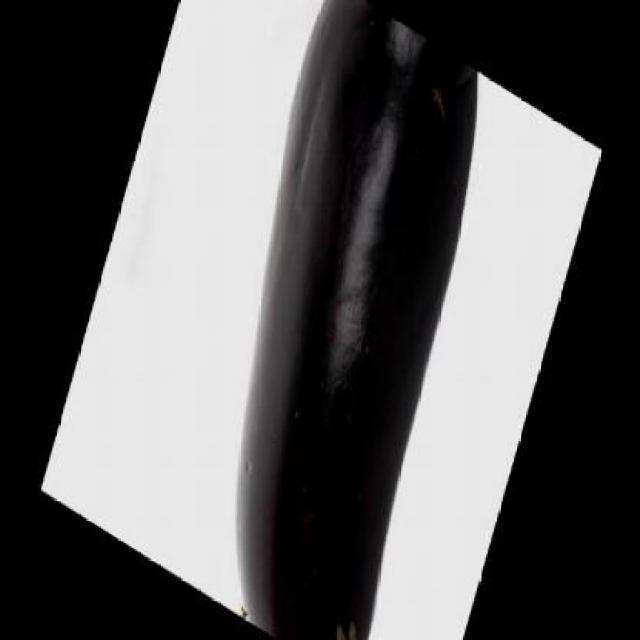eggplant: (230, 0, 486, 639)
